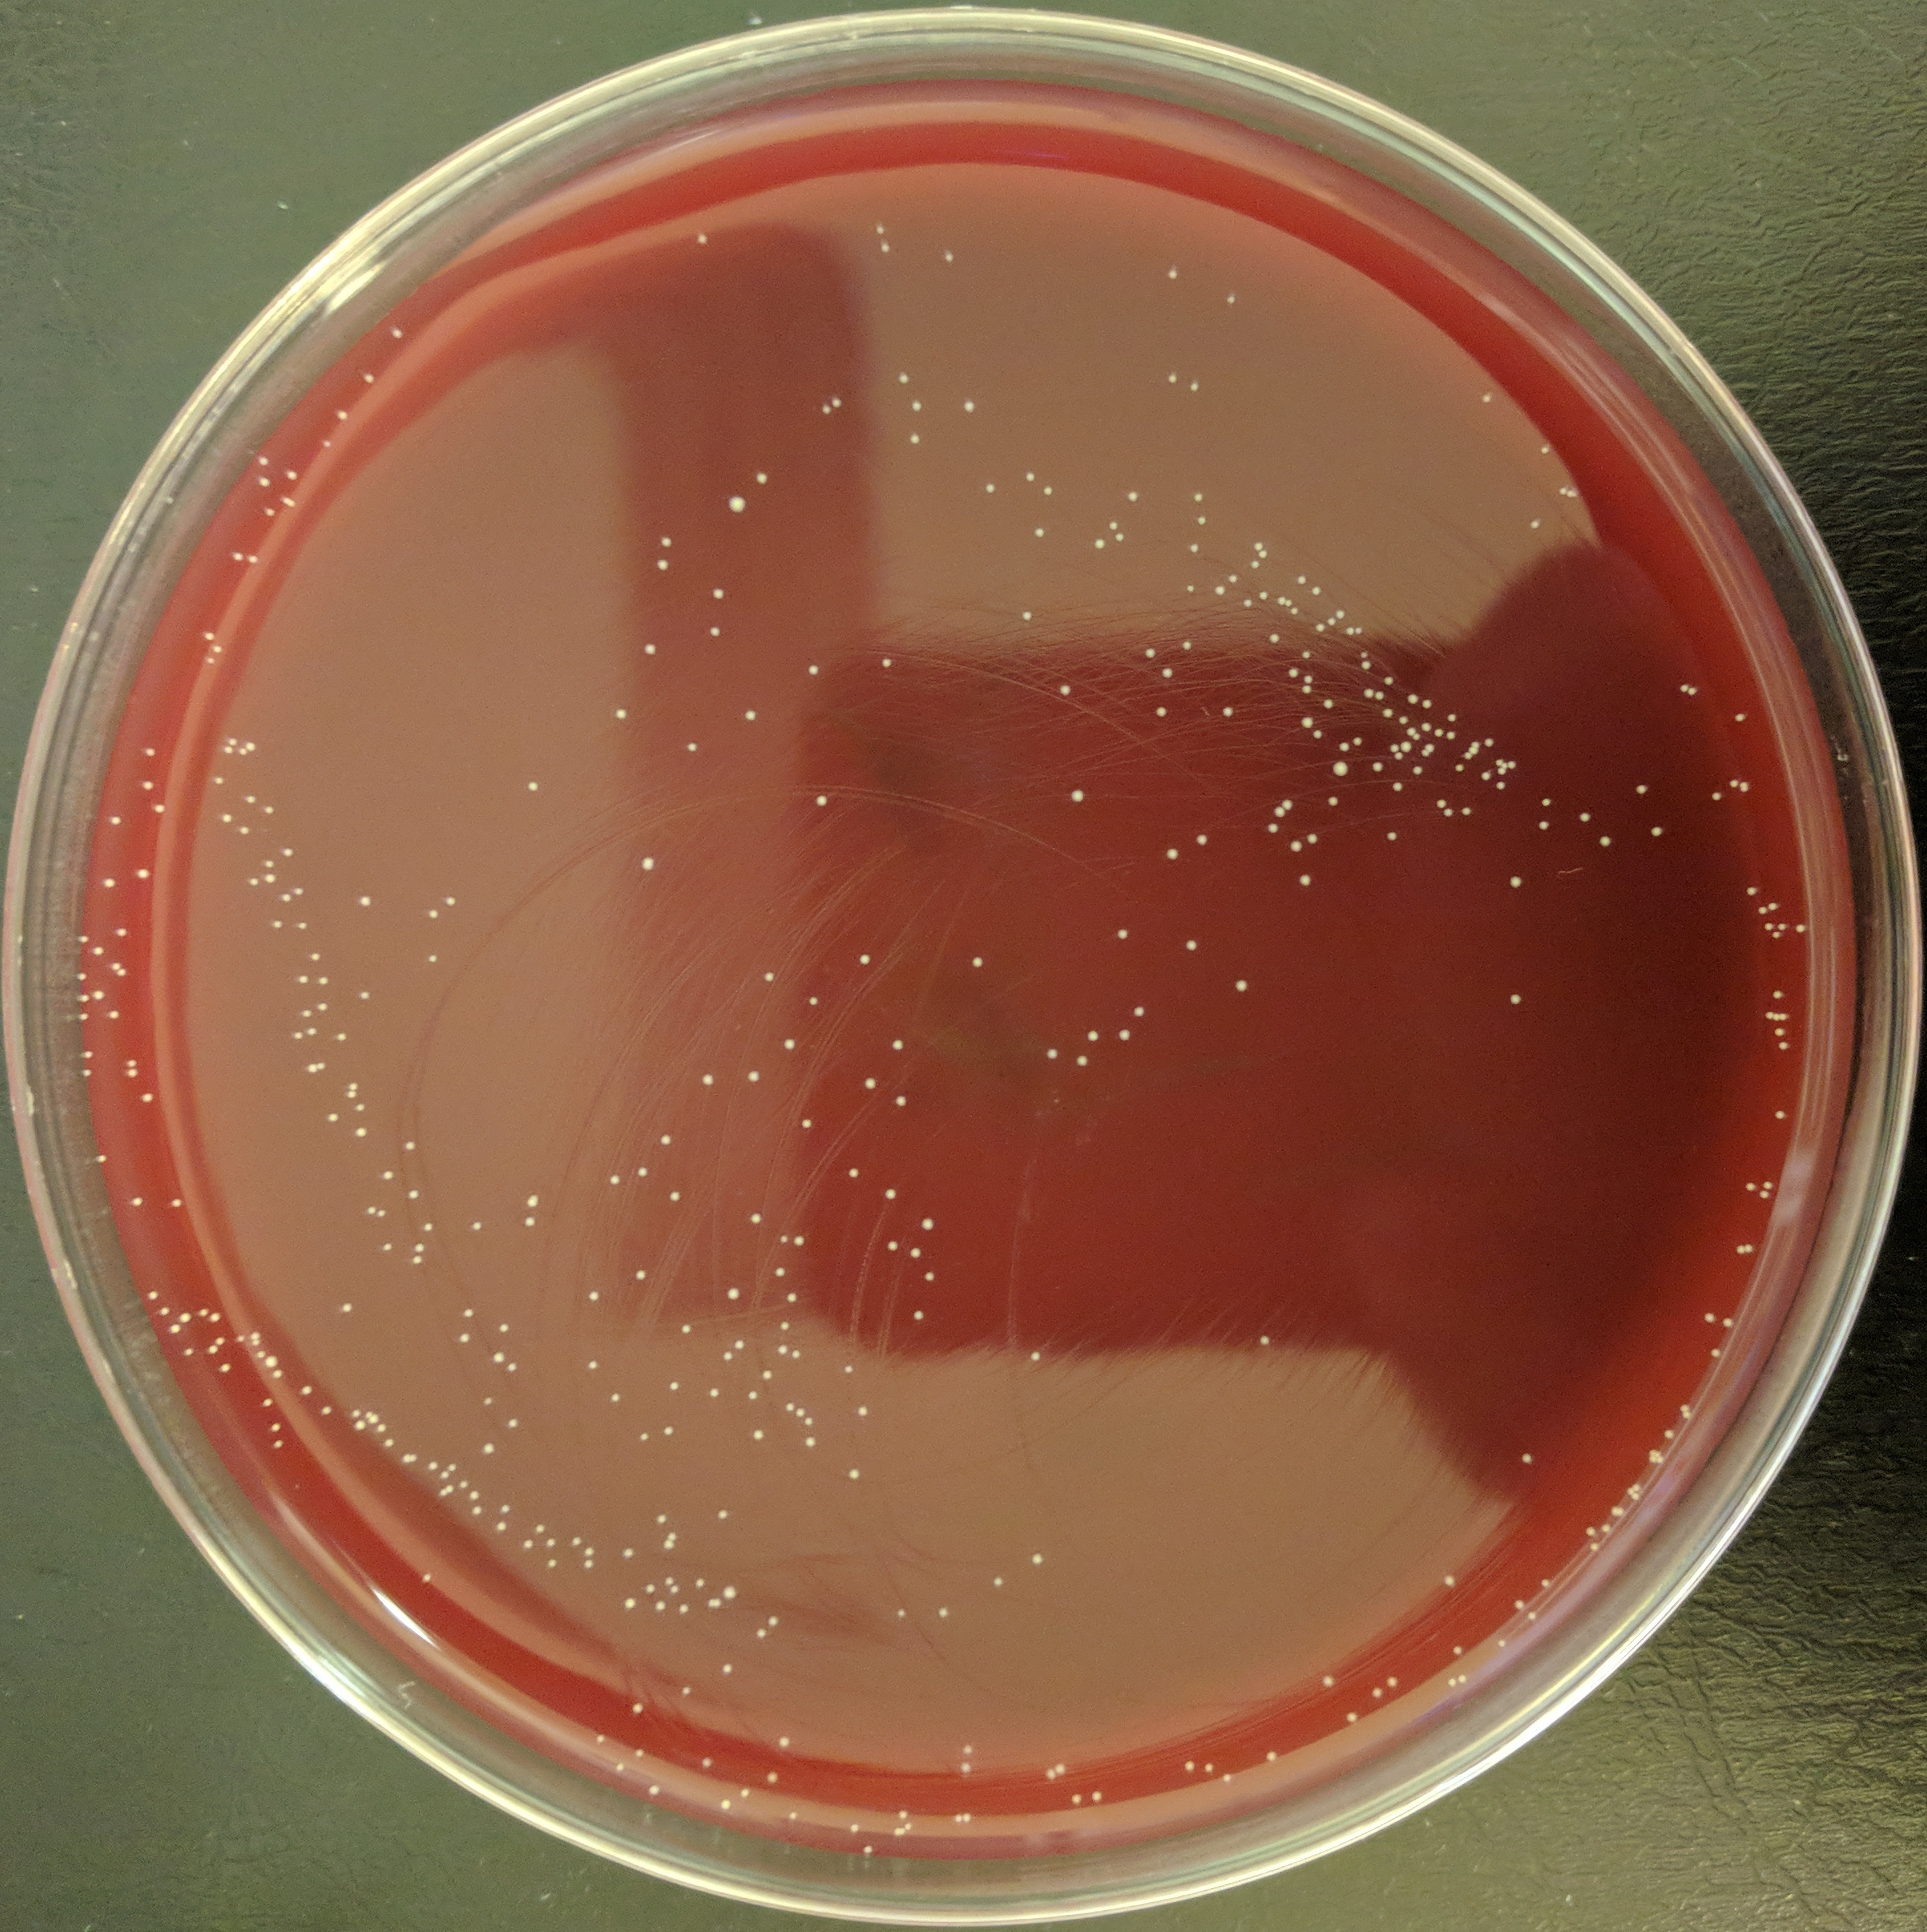sp09: (517, 1210, 545, 1233), (1064, 785, 1089, 808), (1646, 1443, 1668, 1470), (893, 369, 919, 388), (521, 780, 547, 799), (727, 492, 748, 515), (854, 949, 875, 972), (388, 321, 408, 346), (1645, 822, 1669, 842), (741, 1067, 766, 1087), (1175, 633, 1196, 655), (612, 704, 634, 725), (1329, 759, 1350, 780), (861, 1073, 882, 1094), (799, 1431, 821, 1452), (521, 1193, 549, 1209), (1316, 1671, 1338, 1692), (1597, 829, 1616, 852), (965, 953, 988, 972), (798, 1113, 817, 1136), (125, 1193, 148, 1212), (752, 468, 773, 487), (1140, 642, 1159, 663), (1479, 388, 1498, 409), (1539, 439, 1560, 459), (1043, 1043, 1062, 1064), (780, 1034, 801, 1053), (715, 1794, 736, 1814), (1339, 1706, 1359, 1727), (1438, 1570, 1459, 1590), (937, 249, 960, 266), (1288, 836, 1306, 859), (464, 1219, 492, 1233), (978, 478, 997, 498), (1503, 990, 1523, 1009), (1770, 985, 1789, 1004), (1083, 1025, 1103, 1045), (881, 1237, 900, 1256), (724, 1284, 743, 1304), (660, 1422, 679, 1442), (709, 582, 727, 603), (875, 655, 896, 672), (1503, 875, 1525, 893), (1232, 977, 1253, 995), (812, 790, 829, 812), (882, 1184, 900, 1205), (722, 1579, 739, 1600), (775, 1731, 792, 1752), (958, 1740, 979, 1757), (256, 450, 272, 473), (1191, 833, 1214, 849), (1043, 1766, 1059, 1789), (1223, 289, 1242, 307), (907, 399, 926, 416), (1184, 540, 1203, 558), (1736, 776, 1754, 796), (1295, 872, 1315, 889), (1262, 820, 1281, 838), (1279, 794, 1299, 812), (1271, 801, 1288, 820), (1218, 704, 1237, 722), (759, 967, 778, 985), (639, 856, 658, 873), (425, 905, 445, 923), (356, 893, 376, 910), (210, 773, 229, 790), (656, 1131, 676, 1149), (845, 1163, 863, 1182), (664, 1376, 683, 1394), (494, 1318, 512, 1337), (503, 1359, 522, 1376), (318, 1401, 335, 1420), (1029, 1549, 1048, 1567), (988, 1574, 1006, 1593), (764, 1768, 782, 1787), (1382, 1673, 1401, 1690), (904, 432, 925, 448), (1124, 489, 1145, 505), (741, 709, 762, 725), (360, 369, 381, 385), (1161, 847, 1182, 863), (279, 843, 300, 859), (404, 1187, 425, 1203), (478, 1394, 499, 1410), (695, 231, 713, 249), (1165, 266, 1182, 284), (706, 625, 724, 642), (1091, 536, 1108, 554), (258, 475, 275, 492), (1184, 937, 1202, 955), (1113, 926, 1131, 944), (1378, 704, 1396, 722), (141, 745, 159, 762), (699, 1071, 716, 1089), (893, 1090, 911, 1108), (784, 1288, 801, 1306), (586, 1355, 604, 1373), (455, 1329, 473, 1346), (715, 1505, 732, 1523), (1262, 1747, 1279, 1764), (1188, 378, 1207, 393), (319, 436, 335, 455), (1742, 882, 1761, 898), (1115, 1029, 1135, 1045), (1357, 658, 1376, 674), (441, 893, 461, 909), (316, 969, 332, 988), (378, 1166, 397, 1182), (746, 1427, 766, 1443), (757, 1367, 776, 1383), (378, 1237, 394, 1256), (607, 1389, 626, 1404), (487, 1348, 506, 1364), (341, 1299, 356, 1318), (415, 1570, 434, 1586), (956, 1759, 976, 1775), (1181, 1756, 1196, 1775), (651, 559, 672, 573), (801, 663, 822, 678), (1103, 519, 1124, 533), (1128, 1006, 1149, 1020), (888, 1037, 909, 1052), (409, 1240, 431, 1254), (935, 1602, 949, 1623), (844, 1821, 865, 1835), (1053, 1759, 1068, 1780), (378, 1436, 401, 1449), (877, 240, 895, 256), (658, 533, 674, 550), (1034, 524, 1050, 542), (1057, 685, 1075, 700), (286, 496, 302, 513), (244, 554, 261, 570), (1731, 709, 1749, 725), (1768, 896, 1784, 914), (1772, 1108, 1789, 1124), (1325, 794, 1343, 810), (683, 739, 701, 755), (139, 778, 157, 794), (136, 866, 152, 884), (101, 875, 118, 891), (244, 739, 261, 755), (298, 1006, 316, 1022), (334, 1029, 351, 1045), (289, 1027, 305, 1045), (635, 1163, 651, 1180), (122, 1066, 139, 1082), (92, 1149, 108, 1166), (919, 1216, 937, 1232), (907, 1246, 923, 1263), (911, 1307, 926, 1325), (854, 1403, 872, 1419), (605, 1172, 623, 1187), (372, 1205, 390, 1221), (584, 1288, 602, 1304), (678, 1320, 695, 1336), (706, 1383, 722, 1401), (461, 1304, 476, 1322), (542, 1533, 559, 1549), (579, 1558, 596, 1574), (619, 1546, 637, 1561), (641, 1581, 658, 1597), (674, 1600, 692, 1616), (736, 1784, 754, 1800), (1068, 1791, 1085, 1807), (1678, 1396, 1696, 1412), (1721, 1314, 1736, 1332), (639, 644, 658, 658), (1523, 517, 1542, 531), (1382, 829, 1401, 843), (305, 949, 325, 963), (399, 1138, 418, 1152), (323, 1110, 342, 1124), (506, 1413, 521, 1433), (176, 1311, 196, 1325), (1256, 1330, 1271, 1350), (1698, 1309, 1717, 1323), (872, 222, 888, 238), (960, 397, 976, 413), (1754, 903, 1770, 919), (1075, 1055, 1091, 1071), (1350, 732, 1366, 748), (1369, 759, 1385, 775), (1391, 780, 1406, 796), (104, 1007, 120, 1023), (921, 1269, 937, 1284), (420, 1217, 436, 1233), (409, 1253, 425, 1269), (169, 1194, 185, 1210), (166, 1322, 182, 1337), (205, 1341, 221, 1357), (265, 1353, 281, 1369), (351, 1419, 367, 1434), (752, 1627, 768, 1643), (623, 1595, 639, 1611), (653, 1599, 669, 1614), (1368, 1685, 1383, 1701), (1518, 1449, 1533, 1464), (1611, 1507, 1627, 1523), (1759, 1177, 1775, 1193), (1163, 371, 1181, 385), (829, 395, 847, 409), (1020, 469, 1038, 483), (282, 468, 300, 482), (1706, 789, 1724, 803), (1535, 819, 1553, 833), (1152, 706, 1170, 720), (356, 988, 374, 1002), (152, 801, 169, 815), (244, 792, 261, 806), (113, 925, 131, 939), (139, 1092, 157, 1106), (791, 1348, 805, 1366), (771, 1265, 789, 1279), (143, 1286, 161, 1300), (157, 1302, 171, 1320), (210, 1309, 224, 1327), (217, 1362, 235, 1376), (268, 1419, 286, 1433), (521, 1535, 535, 1553), (630, 1699, 644, 1717), (646, 1782, 664, 1796), (1523, 1607, 1541, 1621), (1659, 1426, 1676, 1440), (1018, 610, 1038, 623), (334, 411, 353, 423), (1535, 796, 1555, 808), (199, 628, 219, 640), (746, 1212, 766, 1224), (665, 1189, 685, 1202), (632, 1269, 651, 1281), (844, 1468, 863, 1480), (768, 1611, 780, 1630), (1092, 1786, 1105, 1805), (1563, 489, 1585, 499), (1634, 783, 1650, 798), (1304, 833, 1320, 847), (1493, 780, 1509, 794), (1479, 769, 1495, 783), (1361, 685, 1375, 700), (1212, 582, 1226, 598), (263, 803, 277, 819), (74, 969, 88, 985), (76, 992, 92, 1006), (314, 997, 330, 1011), (353, 1126, 369, 1140), (346, 1078, 362, 1092), (792, 1404, 806, 1420), (792, 1233, 806, 1249), (776, 1232, 791, 1247), (637, 1427, 651, 1443), (480, 1440, 494, 1456), (270, 1367, 286, 1382), (298, 1382, 314, 1396), (374, 1420, 390, 1434), (893, 1606, 909, 1620), (699, 1754, 715, 1768), (1456, 1673, 1470, 1689), (1495, 1636, 1509, 1651), (1706, 1346, 1722, 1360), (1743, 1242, 1758, 1258), (1041, 485, 1059, 498), (1181, 582, 1198, 595), (261, 506, 279, 519), (1159, 667, 1177, 679), (1320, 697, 1338, 709), (1443, 711, 1461, 723), (217, 812, 235, 824), (263, 872, 281, 884), (1029, 1346, 1041, 1364), (579, 1544, 596, 1556), (715, 1591, 724, 1616), (1576, 812, 1595, 822), (113, 969, 132, 979), (268, 1440, 288, 1450), (466, 1505, 485, 1516), (662, 1530, 681, 1540), (963, 1808, 974, 1828), (1459, 805, 1473, 819), (1442, 806, 1456, 820), (1382, 674, 1396, 688), (1375, 686, 1389, 700), (1241, 596, 1255, 610), (1293, 572, 1308, 586), (236, 824, 251, 838), (92, 944, 106, 958), (296, 974, 311, 988), (305, 1023, 319, 1037), (314, 1060, 328, 1075), (746, 1387, 761, 1401), (778, 1318, 792, 1332), (533, 1521, 547, 1535), (545, 1556, 559, 1570), (692, 1574, 706, 1588), (679, 1683, 694, 1697), (634, 1745, 648, 1759), (1443, 1674, 1458, 1689), (1511, 1597, 1525, 1611), (1113, 533, 1129, 545), (1195, 513, 1211, 526), (1299, 715, 1315, 727), (1267, 630, 1283, 642), (1410, 766, 1426, 778), (1431, 798, 1447, 810), (111, 812, 124, 827), (296, 916, 309, 932), (92, 988, 108, 1000), (76, 1011, 92, 1023), (305, 1060, 318, 1076), (722, 1346, 734, 1362), (196, 1304, 208, 1320), (261, 1396, 277, 1408), (655, 1510, 667, 1526), (660, 1539, 676, 1551), (718, 1660, 734, 1673), (612, 1763, 628, 1775), (859, 1842, 875, 1854), (1537, 1576, 1553, 1588), (1588, 1540, 1601, 1556), (1742, 1180, 1758, 1193), (341, 1089, 358, 1099), (79, 1050, 97, 1060), (704, 1595, 715, 1613), (821, 404, 835, 416), (1189, 490, 1203, 503), (1796, 923, 1809, 937), (1775, 1041, 1789, 1053), (1338, 741, 1352, 753), (1299, 683, 1313, 695), (1484, 734, 1496, 748), (1445, 729, 1459, 741), (1466, 743, 1479, 757), (229, 547, 242, 561), (247, 875, 261, 887), (293, 884, 307, 896), (279, 891, 291, 905), (76, 933, 90, 946), (124, 1055, 138, 1067), (801, 1415, 815, 1427), (732, 1337, 746, 1350), (180, 1344, 194, 1357), (233, 1332, 245, 1346), (436, 1486, 448, 1500), (494, 1521, 508, 1533), (593, 1733, 607, 1745), (895, 1807, 909, 1819), (1203, 1759, 1216, 1773), (1583, 1524, 1597, 1537), (1599, 1519, 1611, 1533), (1733, 1242, 1745, 1256), (1758, 1189, 1772, 1202), (1276, 593, 1286, 609), (1781, 1009, 1791, 1025), (1773, 1029, 1789, 1039), (1302, 674, 1318, 685), (1299, 648, 1315, 658), (1255, 549, 1271, 559), (272, 916, 282, 932), (78, 1067, 94, 1078), (568, 1535, 584, 1546), (1675, 681, 1687, 693), (1763, 921, 1775, 933), (1761, 1009, 1773, 1022), (1405, 692, 1417, 704), (808, 993, 821, 1006), (425, 953, 438, 965), (203, 656, 215, 669), (355, 1101, 367, 1113), (254, 1348, 266, 1360), (443, 1482, 455, 1494), (1221, 1770, 1233, 1782), (1451, 1644, 1463, 1657), (1311, 729, 1325, 739), (1421, 699, 1435, 709), (1355, 648, 1369, 658), (1495, 766, 1509, 776), (1417, 748, 1431, 759), (1248, 559, 1262, 570), (221, 745, 235, 755), (844, 1362, 854, 1376), (214, 1334, 228, 1344), (249, 1329, 263, 1339), (399, 1450, 409, 1464), (455, 1479, 469, 1489), (955, 1810, 965, 1824), (1631, 1479, 1641, 1493), (1355, 623, 1364, 639), (210, 644, 226, 653), (238, 745, 247, 760), (1772, 923, 1791, 930), (1283, 596, 1293, 609), (1558, 485, 1571, 496), (1728, 776, 1738, 789), (1691, 685, 1701, 697), (1286, 667, 1299, 678), (1454, 764, 1466, 775), (1463, 750, 1473, 762), (1226, 572, 1239, 582), (1286, 607, 1299, 618), (1309, 586, 1322, 596), (1315, 621, 1325, 633), (1325, 616, 1338, 626), (1334, 607, 1345, 619), (1251, 540, 1263, 550), (776, 1344, 789, 1355), (348, 1406, 360, 1417), (367, 1415, 379, 1426), (469, 1487, 480, 1500), (902, 1821, 914, 1831), (1401, 727, 1415, 736), (409, 1450, 418, 1464), (1682, 1413, 1696, 1422), (1770, 932, 1781, 942), (1345, 625, 1355, 635), (1470, 736, 1481, 746), (1258, 589, 1269, 600), (226, 734, 236, 745), (263, 857, 274, 868), (245, 1339, 261, 1346), (664, 1574, 674, 1584), (785, 1808, 796, 1819), (1623, 1484, 1634, 1494), (1631, 1493, 1641, 1503), (1773, 1015, 1786, 1023), (1433, 729, 1445, 738), (1424, 743, 1436, 752), (1399, 741, 1412, 750), (1399, 716, 1412, 725), (111, 960, 124, 969), (439, 1468, 448, 1480), (671, 1584, 679, 1597), (891, 1824, 900, 1837), (1507, 760, 1518, 769), (1493, 757, 1503, 766), (1394, 750, 1403, 760), (785, 1401, 796, 1410), (427, 1459, 436, 1470), (448, 1459, 457, 1470), (499, 1503, 512, 1510), (1421, 722, 1429, 730), (1387, 743, 1398, 750)
